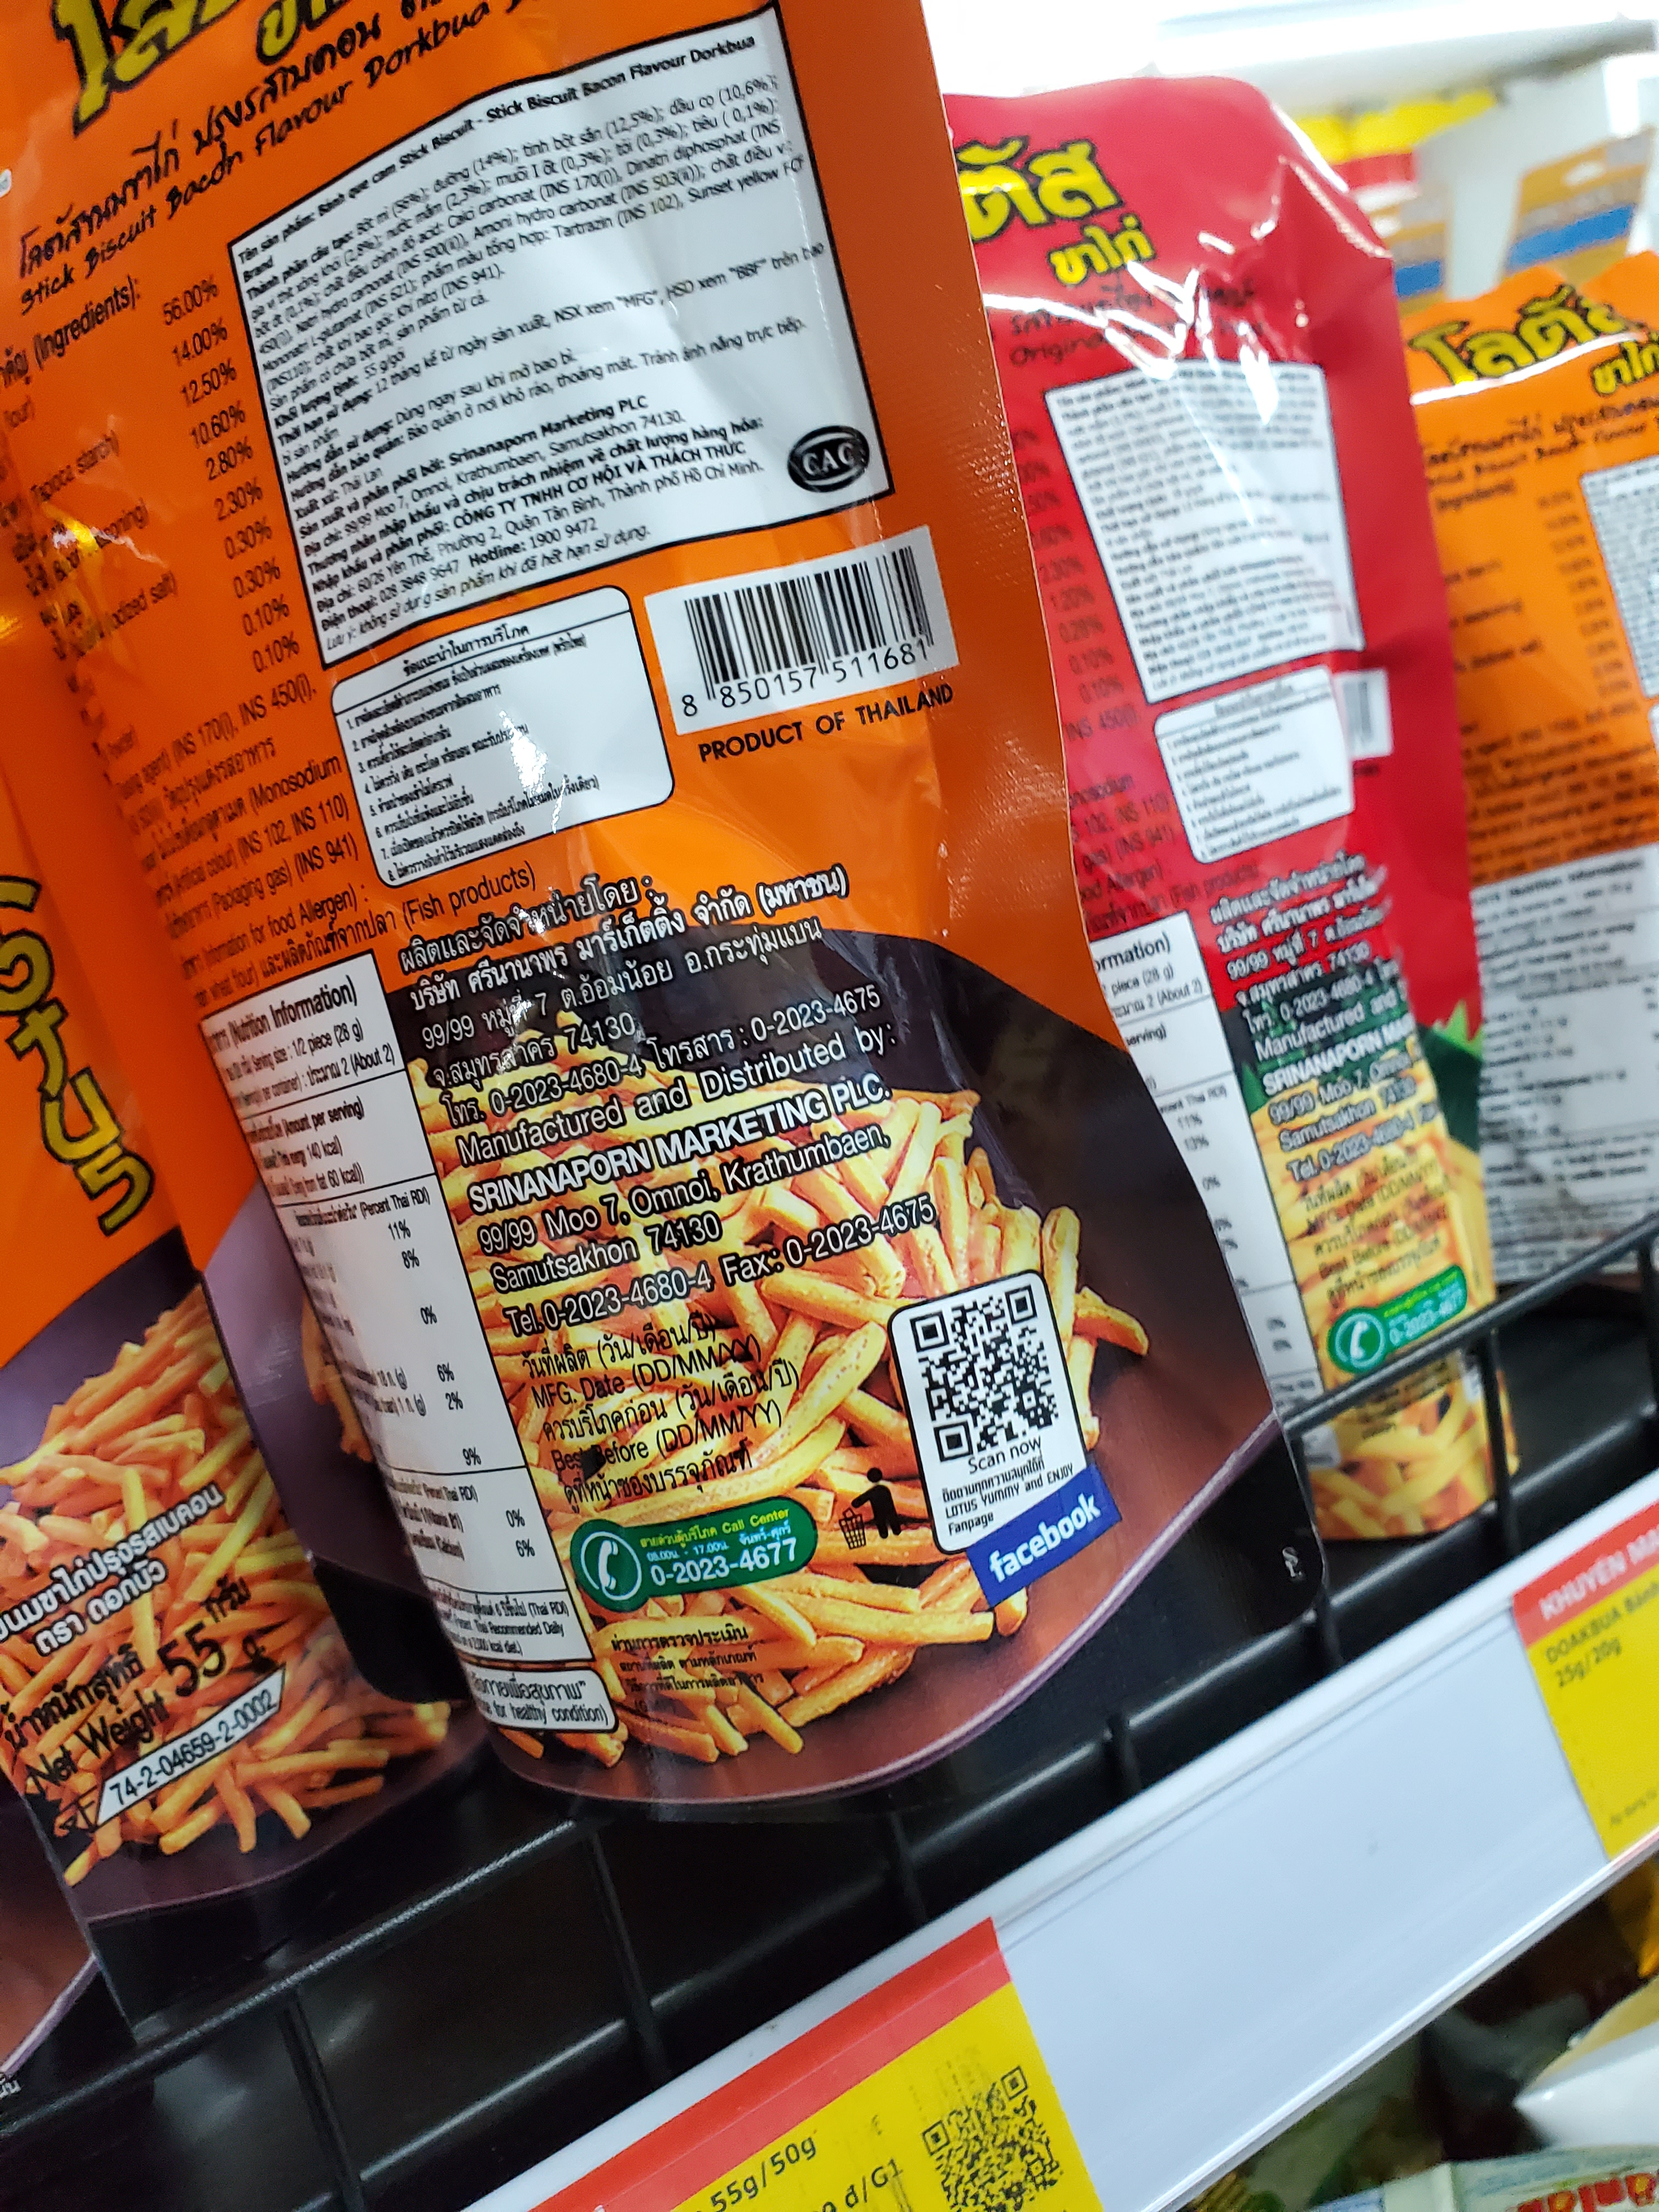barcode: (622, 529, 964, 718)
qr code: (887, 1266, 1082, 1491)
